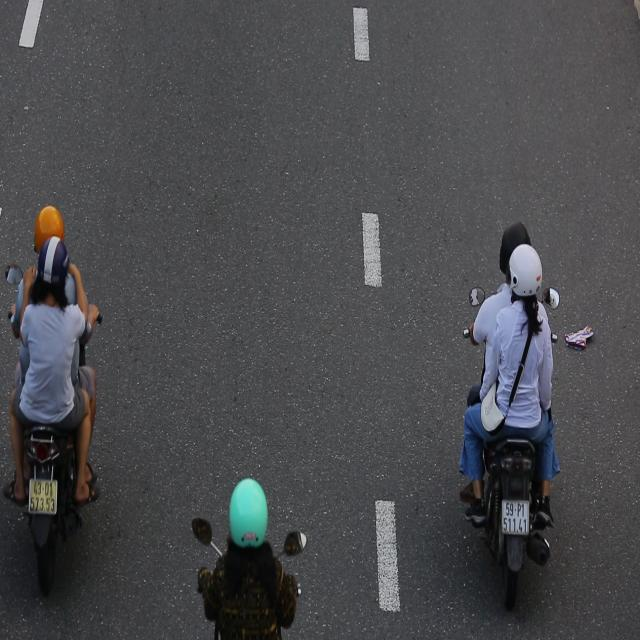motorbike: (2, 200, 106, 608), (467, 214, 570, 620)
